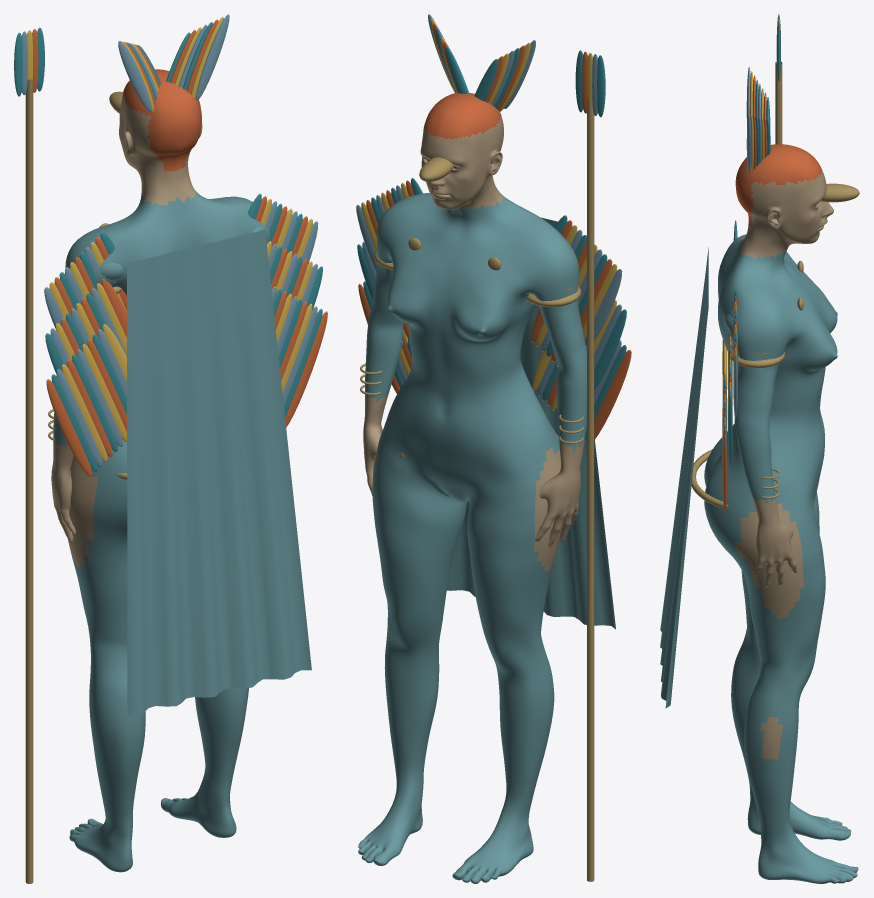
The model's file is party_feathered.glb.
The picture shows the model from 3 angles, left to right: view 1: azimuth 30°, elevation 25°; view 2: azimuth 150°, elevation 25°; view 3: azimuth 270°, elevation 25°; orthographic projection. The views are drawn at different scales.
Parts seen in each view (by area): view 1: Cloak, Anatomy, FeatherStaff, LayeredFeather.071, LayeredFeather.035, CrestFeather.007, CrestFeather.015, LayeredFeather.065, LayeredFeather.066, LayeredFeather.067, LayeredFeather.068, LayeredFeather.069 (+5 smaller); view 2: Anatomy, Cloak, FeatherStaff, LayeredFeather.071, LayeredFeather.059, LayeredFeather.047, AvianMask, LayeredFeather.070; view 3: Anatomy, Cloak, FeatherStaff, AvianMask, Belt.
Boxes of the visible parts, <box> form: Cloak: <box>127,230,311,715</box>; Anatomy: <box>51,69,269,872</box>; FeatherStaff: <box>25,78,33,883</box>; LayeredFeather.071: <box>46,379,92,476</box>; LayeredFeather.035: <box>285,311,327,427</box>; CrestFeather.007: <box>196,14,229,100</box>; CrestFeather.015: <box>118,41,151,111</box>; LayeredFeather.065: <box>77,349,122,446</box>; LayeredFeather.066: <box>72,354,117,451</box>; LayeredFeather.067: <box>67,359,112,456</box>; LayeredFeather.068: <box>62,364,107,461</box>; LayeredFeather.069: <box>56,369,102,466</box>; Anatomy: <box>358,93,586,883</box>; Cloak: <box>446,217,615,629</box>; FeatherStaff: <box>587,99,594,881</box>; LayeredFeather.071: <box>594,349,631,439</box>; LayeredFeather.059: <box>594,309,626,389</box>; LayeredFeather.047: <box>585,269,622,346</box>; AvianMask: <box>419,157,454,181</box>; LayeredFeather.070: <box>585,345,626,439</box>; Anatomy: <box>704,144,858,883</box>; Cloak: <box>660,247,708,708</box>; FeatherStaff: <box>775,61,782,144</box>; AvianMask: <box>821,183,859,202</box>; Belt: <box>691,449,728,508</box>.
Bounding box in the file's own units: 0.7651 × 2.19 × 0.5103.
